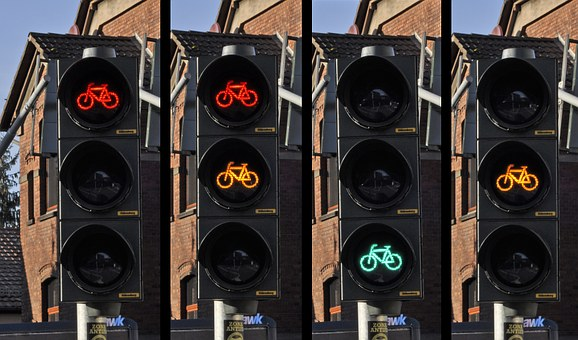trafic: (58, 60, 140, 299), (195, 54, 277, 293), (340, 55, 422, 294), (476, 59, 558, 298)
